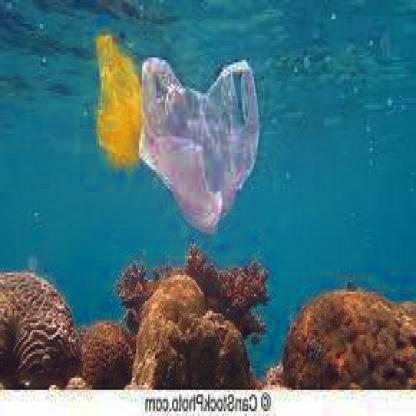pbag: (140, 48, 266, 239), (86, 31, 146, 182)
